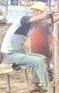boots: (0, 87, 14, 93), (0, 89, 9, 93)
gloves: (47, 0, 59, 14), (50, 80, 59, 93)
hard-hat: (0, 5, 10, 19)
ppe-suit: (30, 24, 59, 93)
